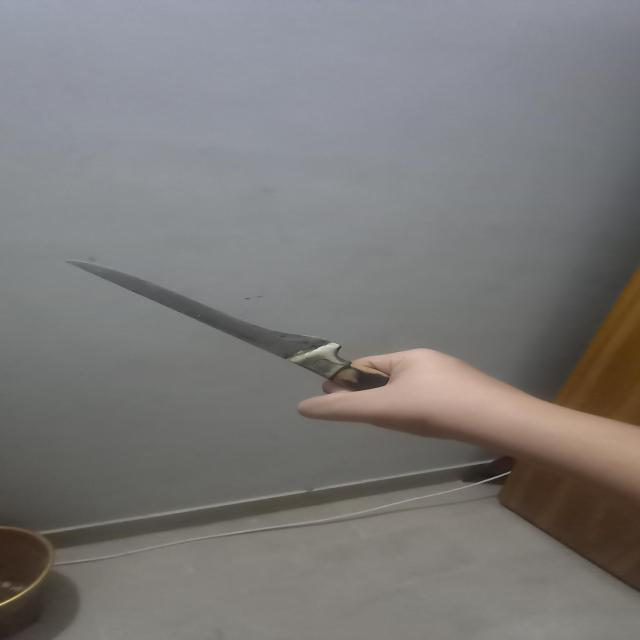Knife: (69, 261, 388, 393)
Person: (300, 346, 640, 494)
